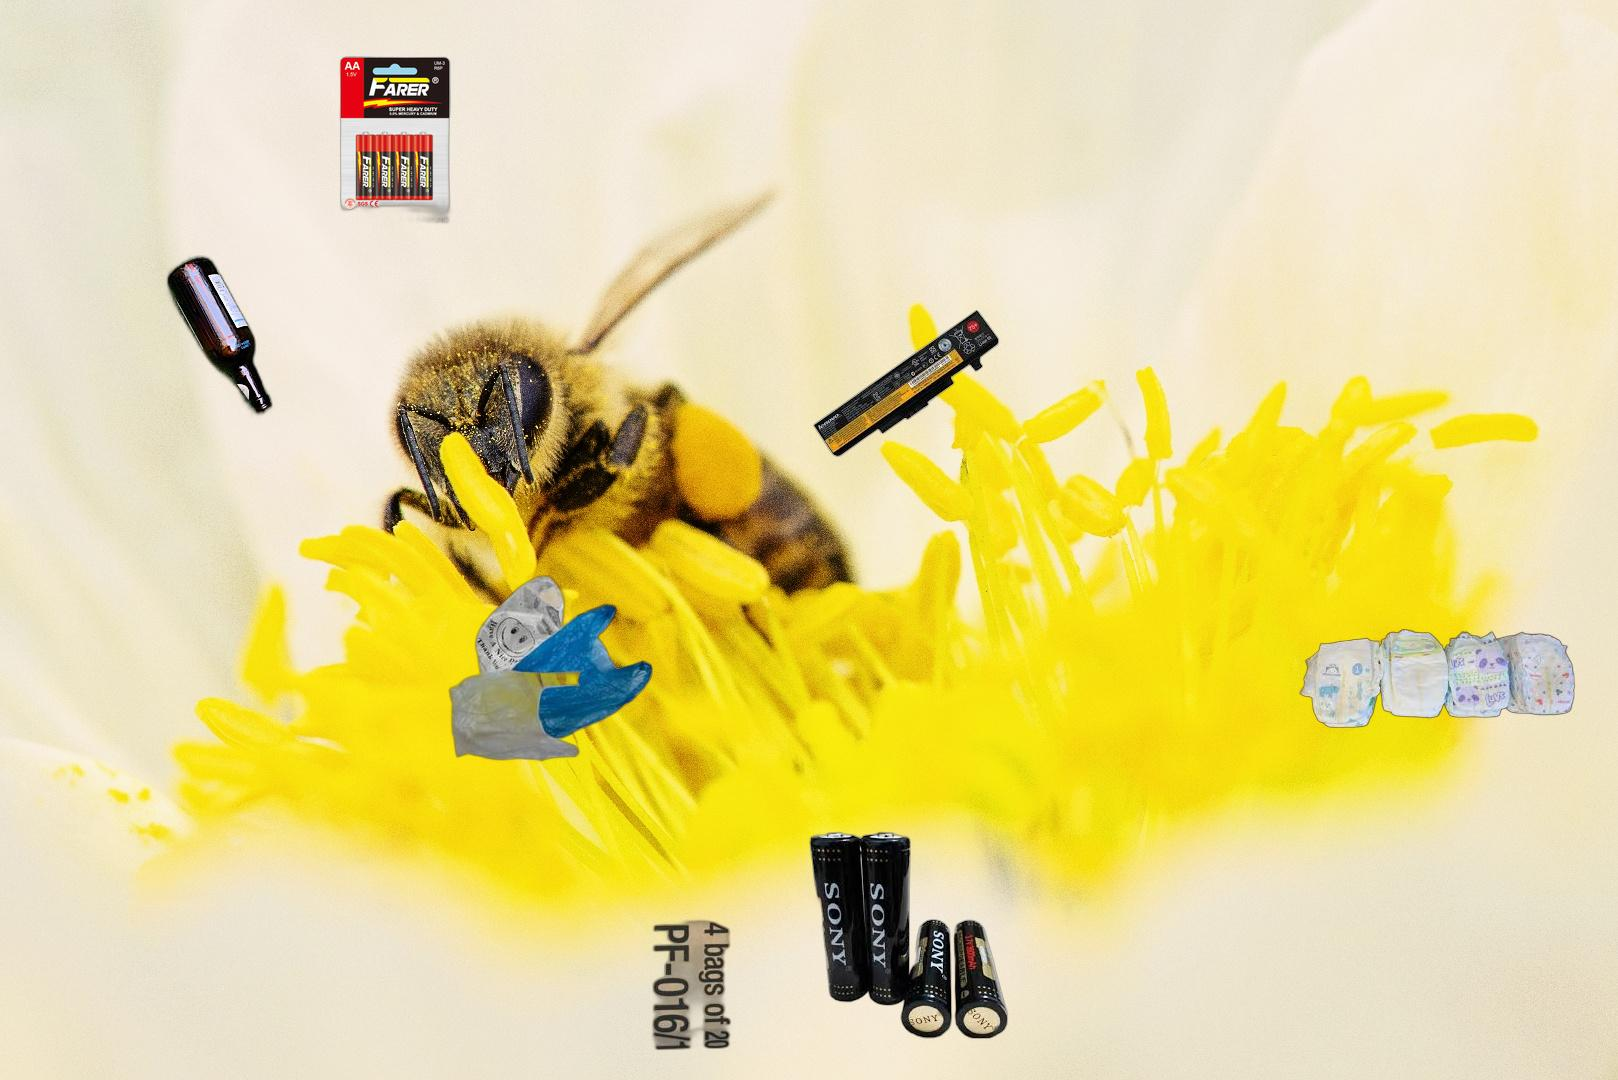battery: (807, 829, 1010, 1041), (811, 307, 1002, 459), (337, 54, 454, 240)
glass: (163, 251, 277, 421)
plastic-bag: (447, 573, 654, 764), (1584, 1014, 1618, 1080)
trash: (1298, 627, 1576, 730)
trashbox-cardboard: (482, 761, 735, 1053)
